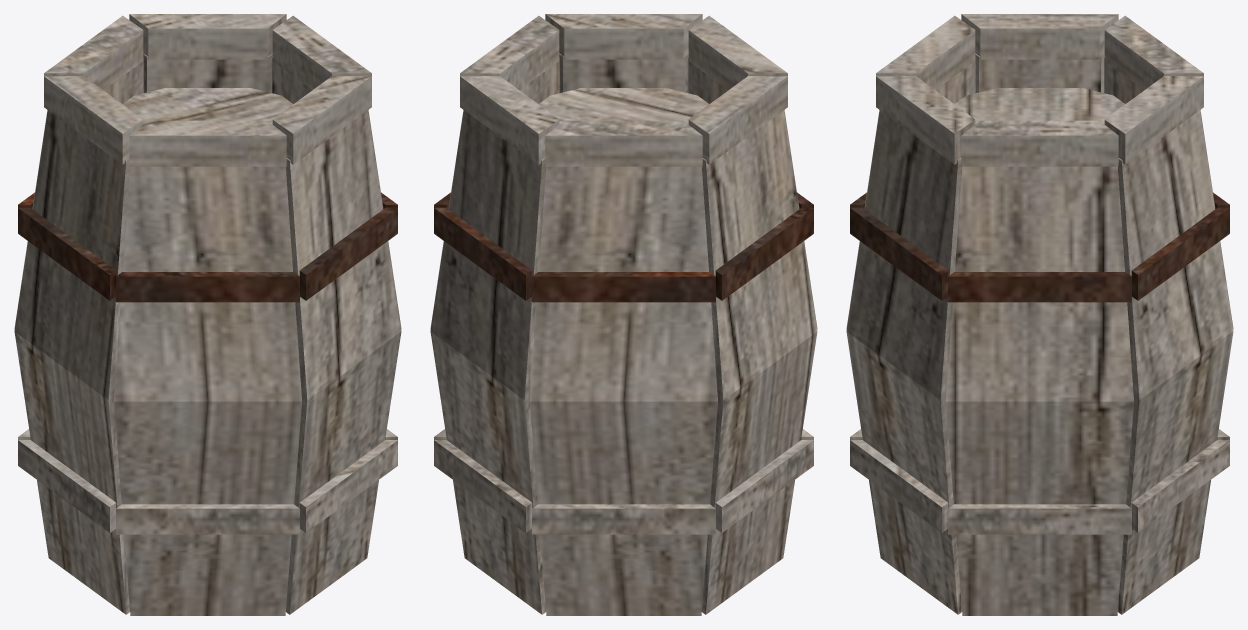
File: barrel_v3_tex.glb
3 views of the same model, side by side, from view 1: azimuth 30°, elevation 25°; view 2: azimuth 150°, elevation 25°; view 3: azimuth 270°, elevation 25° (orthographic).
Visible parts, largest first — view 1: barrel_v3; view 2: barrel_v3; view 3: barrel_v3.
Boxes of the visible parts, <box> form: barrel_v3: <box>14,14,401,615</box>; barrel_v3: <box>430,14,817,615</box>; barrel_v3: <box>846,14,1233,615</box>.
Bounding box in the file's own units: 0.5942 × 0.935 × 0.6799.
Materials: 1 (1 with a texture image).
